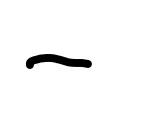minus: (24, 52, 89, 73)
